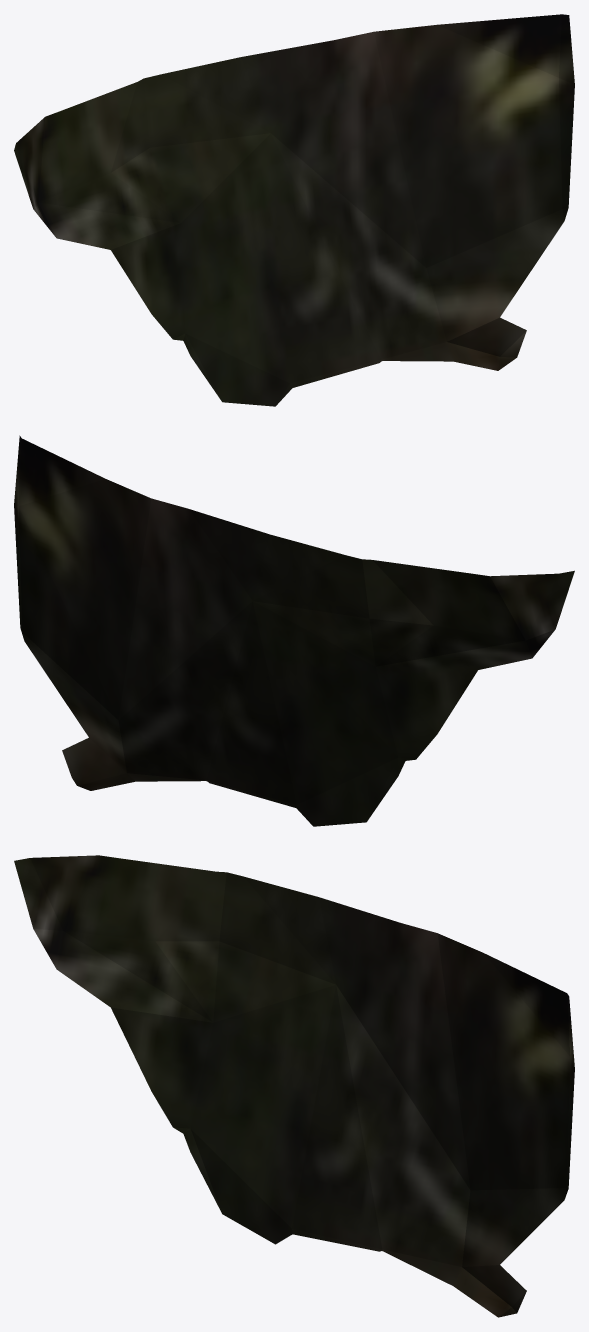
The picture shows the model from 3 angles, top to bottom: view 1: azimuth 30°, elevation 25°; view 2: azimuth 150°, elevation 25°; view 3: azimuth 330°, elevation 25°; orthographic projection.
Size of the model in its own units: 0.3936 by 0.227 by 0.0504.
1 material, 1 textured.
